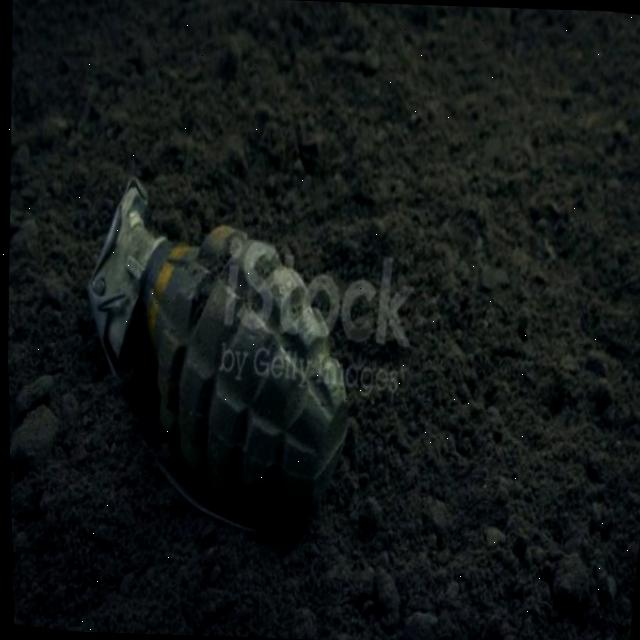grenade: (52, 172, 384, 554)
